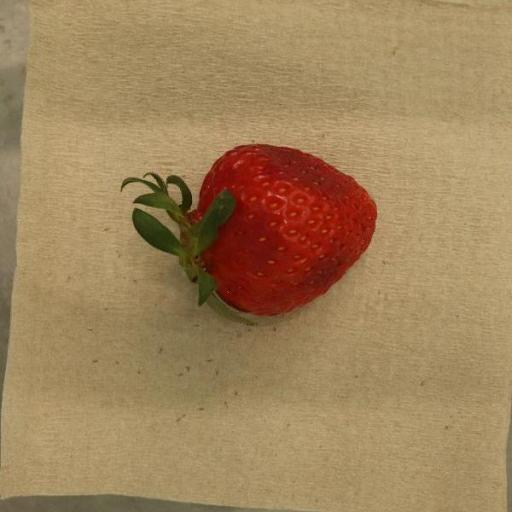Strawberry: (120, 144, 378, 326)
